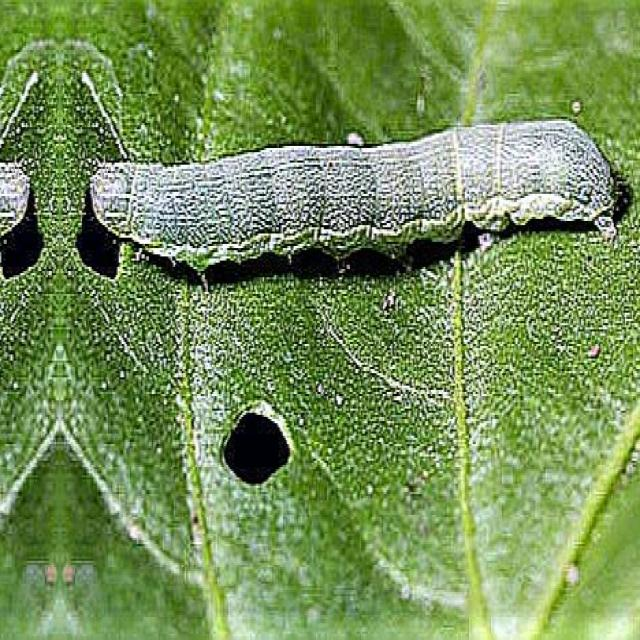Armyworm: (88, 108, 636, 298), (5, 154, 45, 259)
Armyworm_damage: (199, 403, 300, 502)
